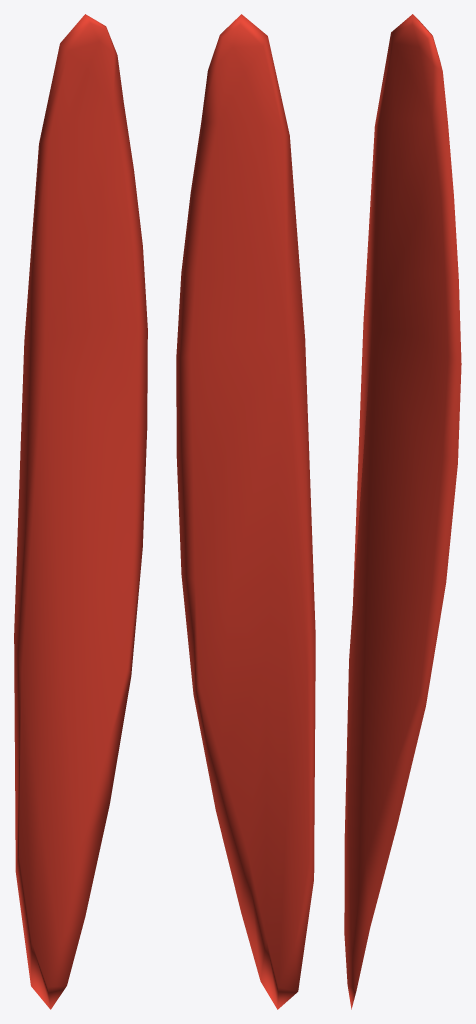
Rendered from Fibularis_tertius-Origin.001_Generated_Mesh_From_X3D.824.glb.
3 renders of one model, left to right at view 1: azimuth 30°, elevation 25°; view 2: azimuth 210°, elevation 25°; view 3: azimuth 330°, elevation 25°, orthographic. The views are drawn at different scales.
Visible parts, largest first — view 1: Fibularis_tertius-Origin.001_Generated_Mesh_From_X3D.824; view 2: Fibularis_tertius-Origin.001_Generated_Mesh_From_X3D.824; view 3: Fibularis_tertius-Origin.001_Generated_Mesh_From_X3D.824.
Part boxes in pixels (<box>): Fibularis_tertius-Origin.001_Generated_Mesh_From_X3D.824: <box>14,14,147,1009</box>; Fibularis_tertius-Origin.001_Generated_Mesh_From_X3D.824: <box>176,14,315,1009</box>; Fibularis_tertius-Origin.001_Generated_Mesh_From_X3D.824: <box>344,14,461,1009</box>.
Size of the model in its own units: 0.00418 by 0.032 by 0.00164.
